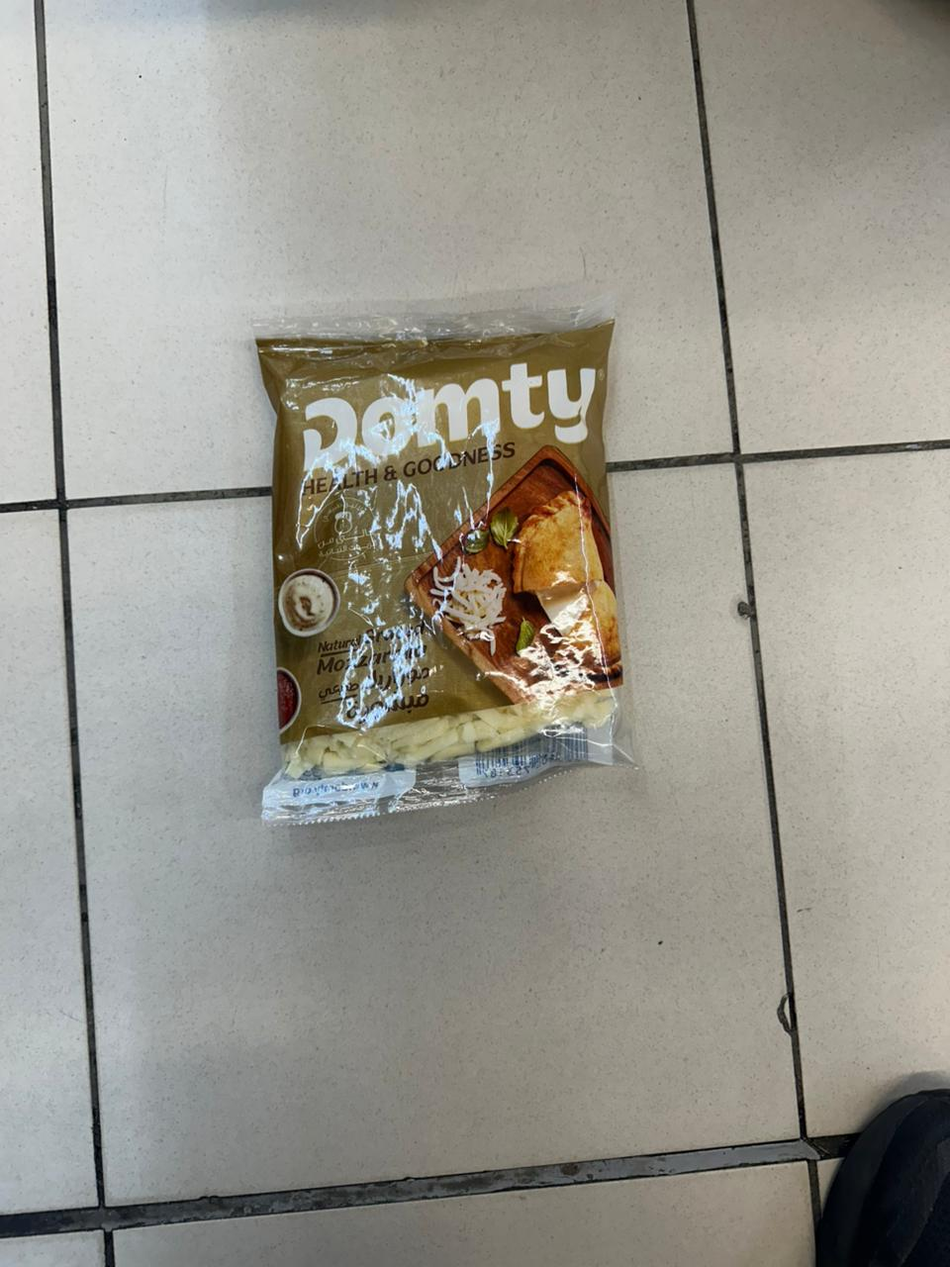mozzarella: (257, 306, 624, 822)
